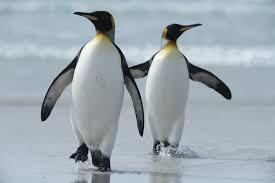king: (28, 6, 153, 183), (126, 11, 226, 161)
